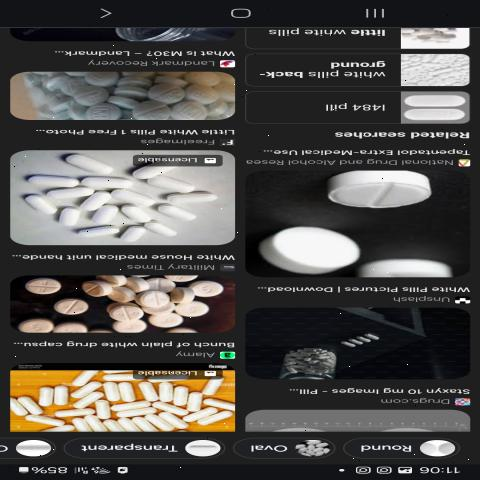Pill: (296, 165, 451, 223), (250, 224, 365, 278), (51, 150, 120, 182), (43, 297, 109, 321), (13, 189, 65, 216), (66, 220, 124, 241), (162, 190, 220, 210), (11, 278, 69, 296)
